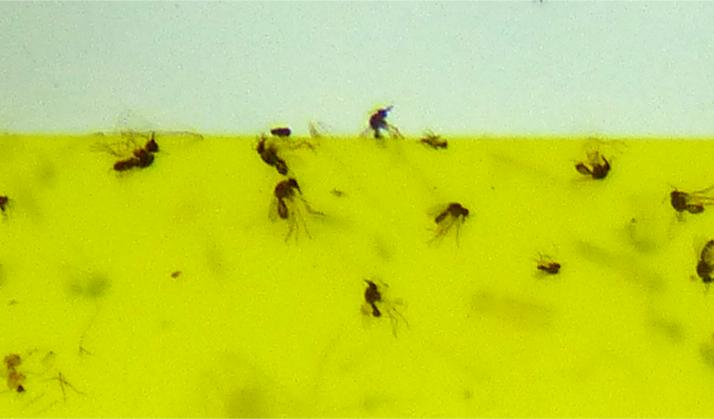Brachycera: (100, 128, 165, 177), (251, 133, 294, 178), (266, 176, 304, 223), (572, 145, 614, 187), (434, 199, 475, 241), (360, 274, 388, 319), (361, 100, 394, 135), (535, 250, 563, 278), (415, 133, 450, 151)
